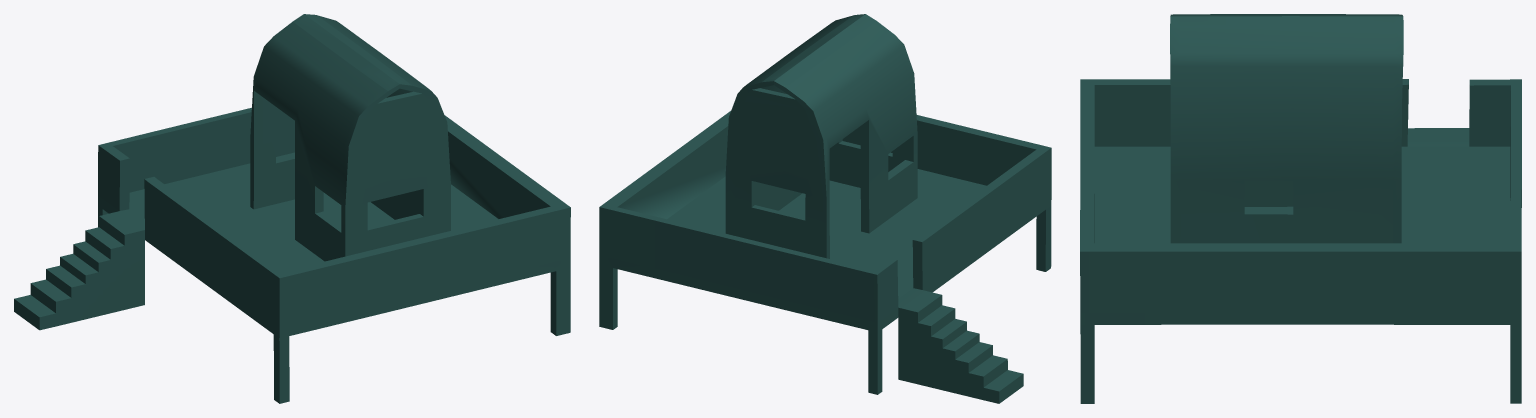
Rendered from Bunker_Rooftop.fbx.
The picture shows the model from 3 angles, left to right: view 1: azimuth 30°, elevation 25°; view 2: azimuth 150°, elevation 25°; view 3: azimuth 270°, elevation 25°; orthographic projection. The views are drawn at different scales.
Visible parts, largest first — view 1: Rooftop_Bunker1; view 2: Rooftop_Bunker1; view 3: Rooftop_Bunker1.
Part boxes in pixels (x1,y1,x2,y2): Rooftop_Bunker1: (14, 14, 570, 403); Rooftop_Bunker1: (599, 14, 1051, 403); Rooftop_Bunker1: (1080, 14, 1521, 403).
Bounding box in the file's own units: 714 × 438 × 567.
